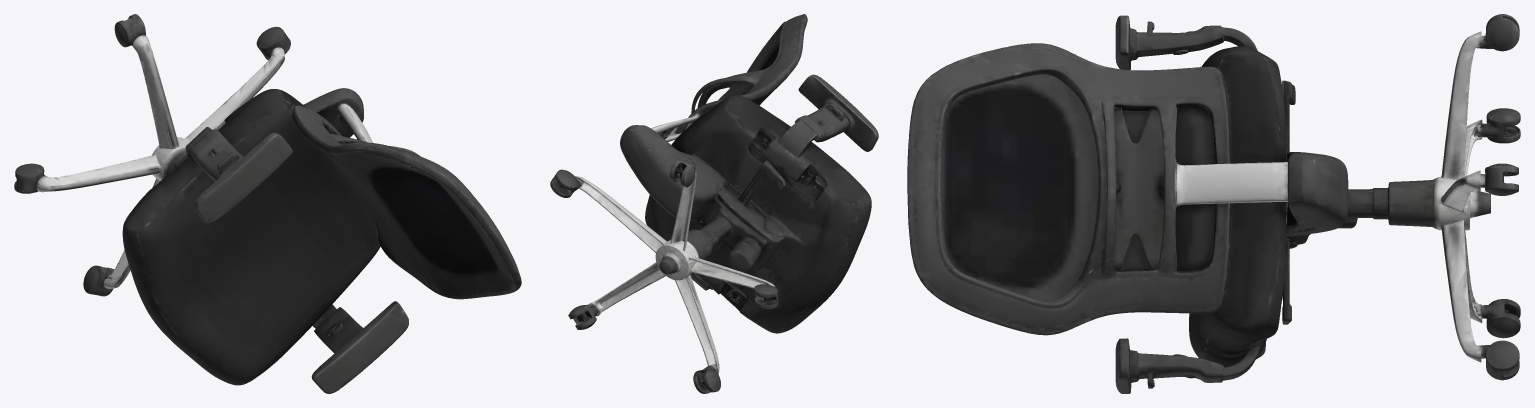
3 renders of one model, left to right at view 1: azimuth 30°, elevation 25°; view 2: azimuth 150°, elevation 25°; view 3: azimuth 270°, elevation 25°, orthographic. The views are drawn at different scales.
Visible parts, largest first — view 1: Nimit.001; view 2: Nimit.001; view 3: Nimit.001.
Boxes of the visible parts, bbox=[...] form: Nimit.001: bbox=[14, 14, 521, 393]; Nimit.001: bbox=[550, 14, 878, 393]; Nimit.001: bbox=[907, 14, 1520, 393].
Size of the model in its own units: 0.0212 by 0.0209 by 0.0323.
Materials: 1 (1 with a texture image).
